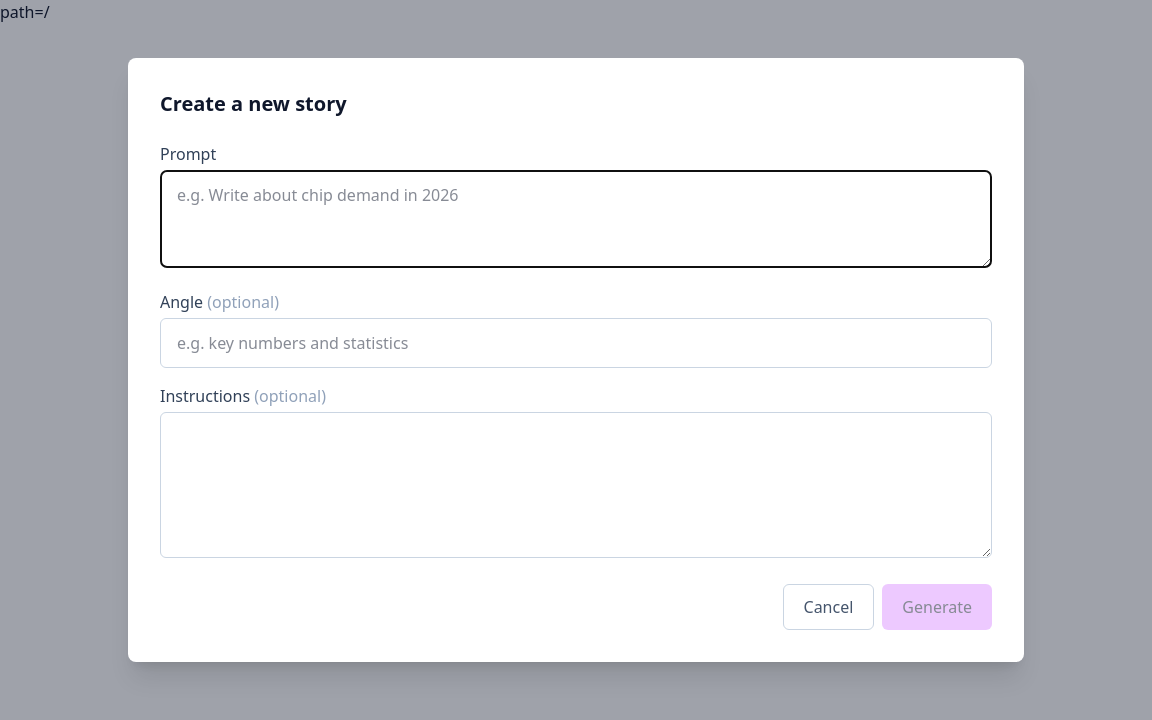
Test: CreateStoryModal › shows an error when creating the job fails
This screenshot has width=1152, height=720.
In the text box with placeholder "e.g. Write about chip demand in 2026": (576, 219) [160,170,992,268], type "Chips"
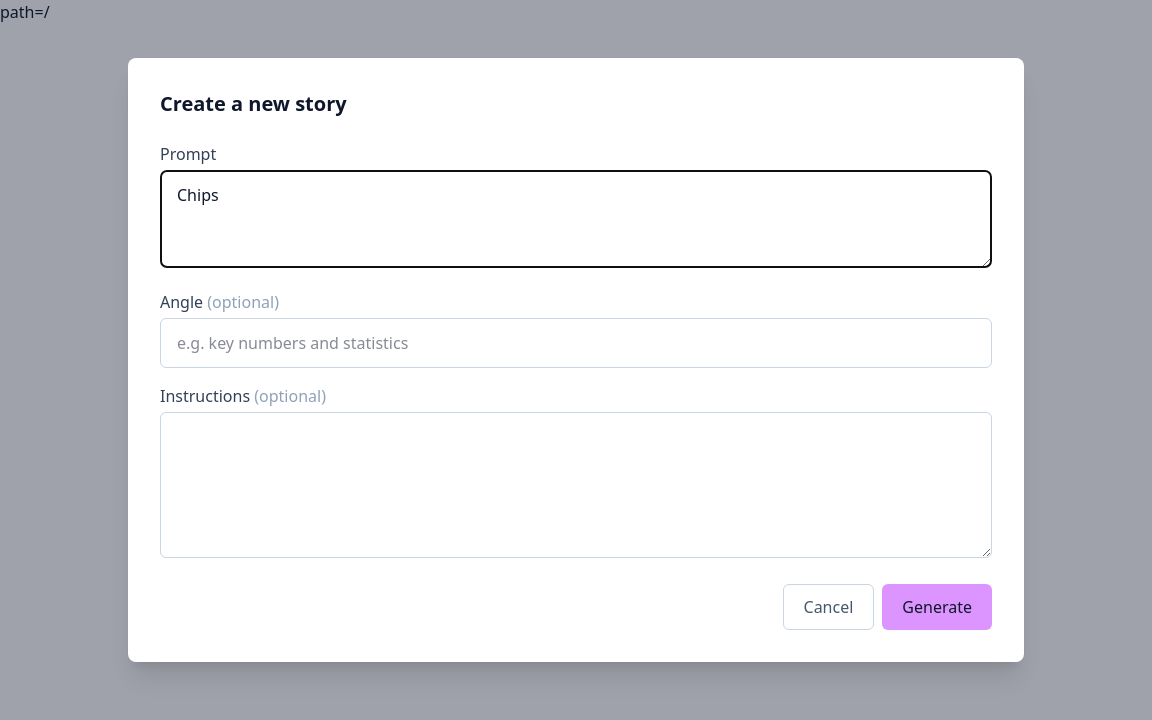
Click the button "Generate": (937, 607) [882,584,992,630]
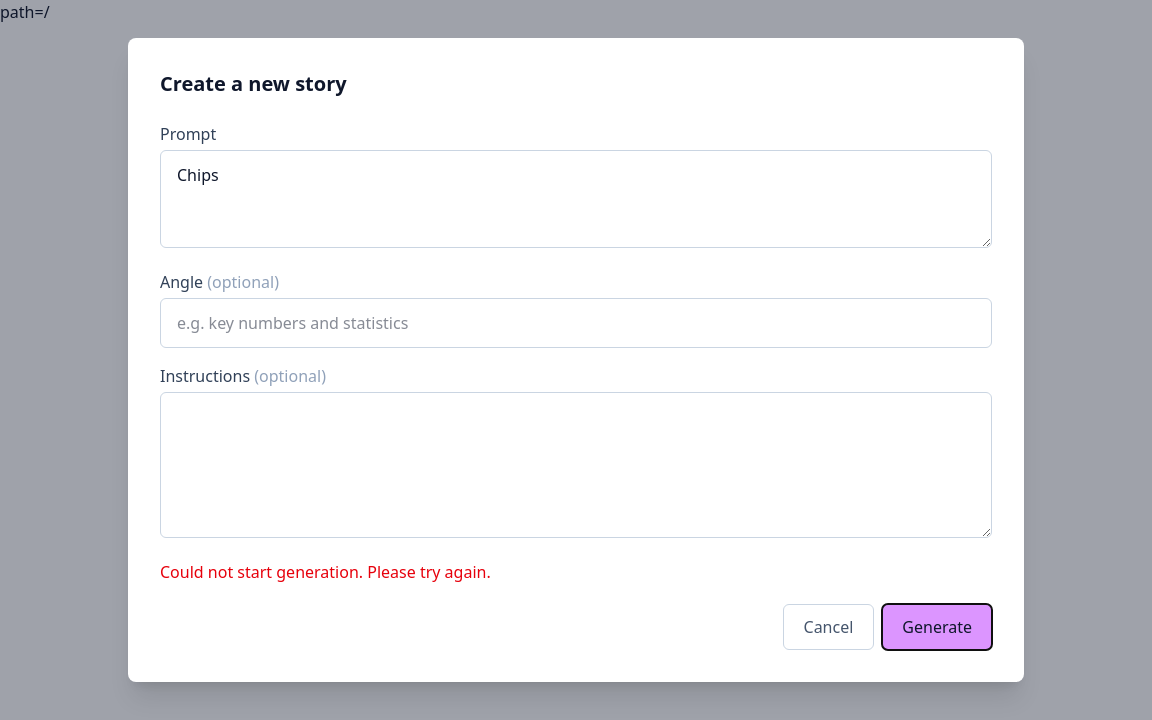
Expected: the heading "Create a new story" is shown, [160,70,347,97]
Now the text "Could not start generation. Please try again." is shown, box [160,561,491,583]
